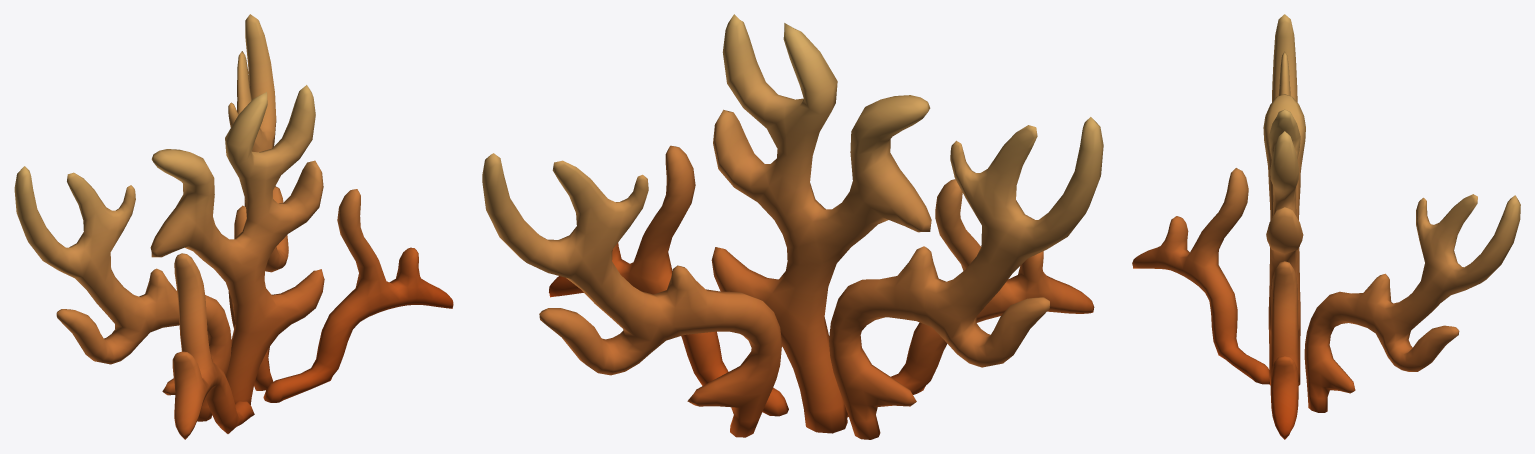
File: FBX_CoralsRedSpikey 1.fbx
3 renders of one model, left to right at view 1: azimuth 30°, elevation 25°; view 2: azimuth 150°, elevation 25°; view 3: azimuth 270°, elevation 25°, orthographic. The views are drawn at different scales.
Visible parts, largest first — view 1: Corals_geo; view 2: Corals_geo; view 3: Corals_geo.
Part boxes in pixels (<box>): Corals_geo: <box>14,14,453,439</box>; Corals_geo: <box>482,14,1103,439</box>; Corals_geo: <box>1132,14,1520,439</box>.
Size of the model in its own units: 59.34 by 40.88 by 48.97.
1 material, 1 textured.
